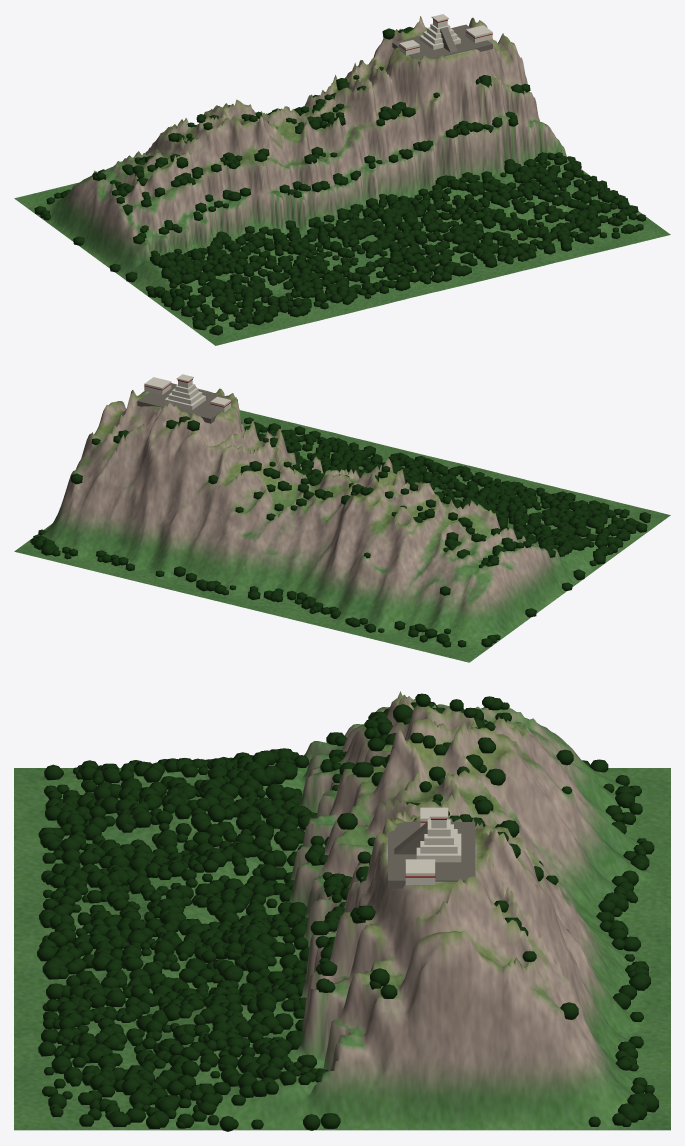
Rendered from cerro.obj.
3 views of the same model, one above another, from view 1: azimuth 30°, elevation 25°; view 2: azimuth 150°, elevation 25°; view 3: azimuth 270°, elevation 25° (orthographic). The views are drawn at different scales.
Visible parts, largest first — view 1: CerroTepozteco, Vegetacion, Explanada; view 2: CerroTepozteco, Vegetacion, Explanada; view 3: CerroTepozteco, Vegetacion, Explanada, EdifDer.
Boxes of the visible parts, <box> form: CerroTepozteco: <box>14,16,670,345</box>; Vegetacion: <box>34,27,645,335</box>; Explanada: <box>392,24,492,66</box>; CerroTepozteco: <box>14,388,670,662</box>; Vegetacion: <box>30,416,650,647</box>; Explanada: <box>137,383,237,423</box>; CerroTepozteco: <box>14,691,670,1130</box>; Vegetacion: <box>37,693,658,1131</box>; Explanada: <box>388,822,475,888</box>; EdifDer: <box>405,859,435,884</box>.
Bounding box in the file's own units: 303 × 94.15 × 230.
Materials: 5 (1 with a texture image).
